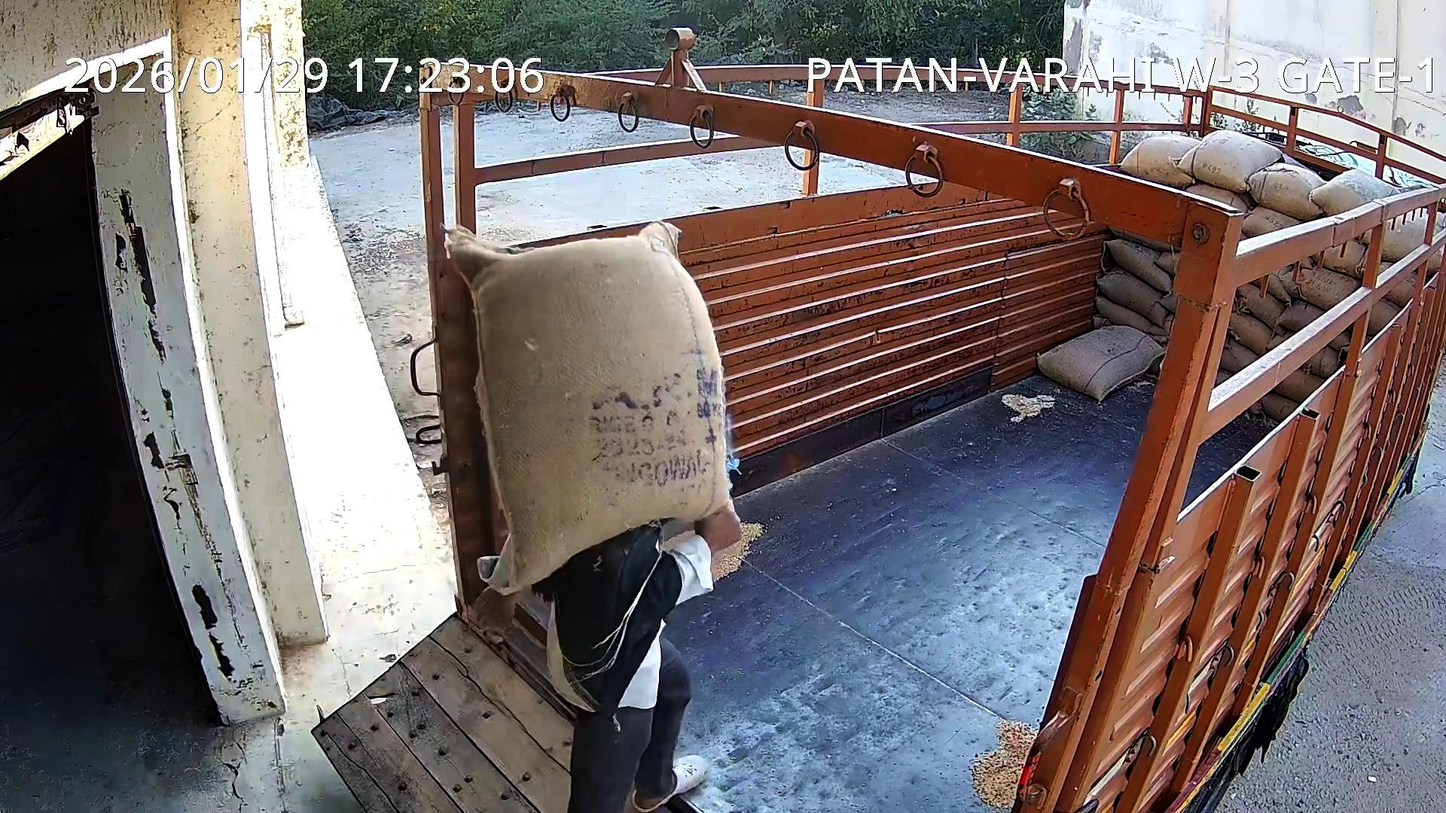Sack: (447, 224, 729, 590)
